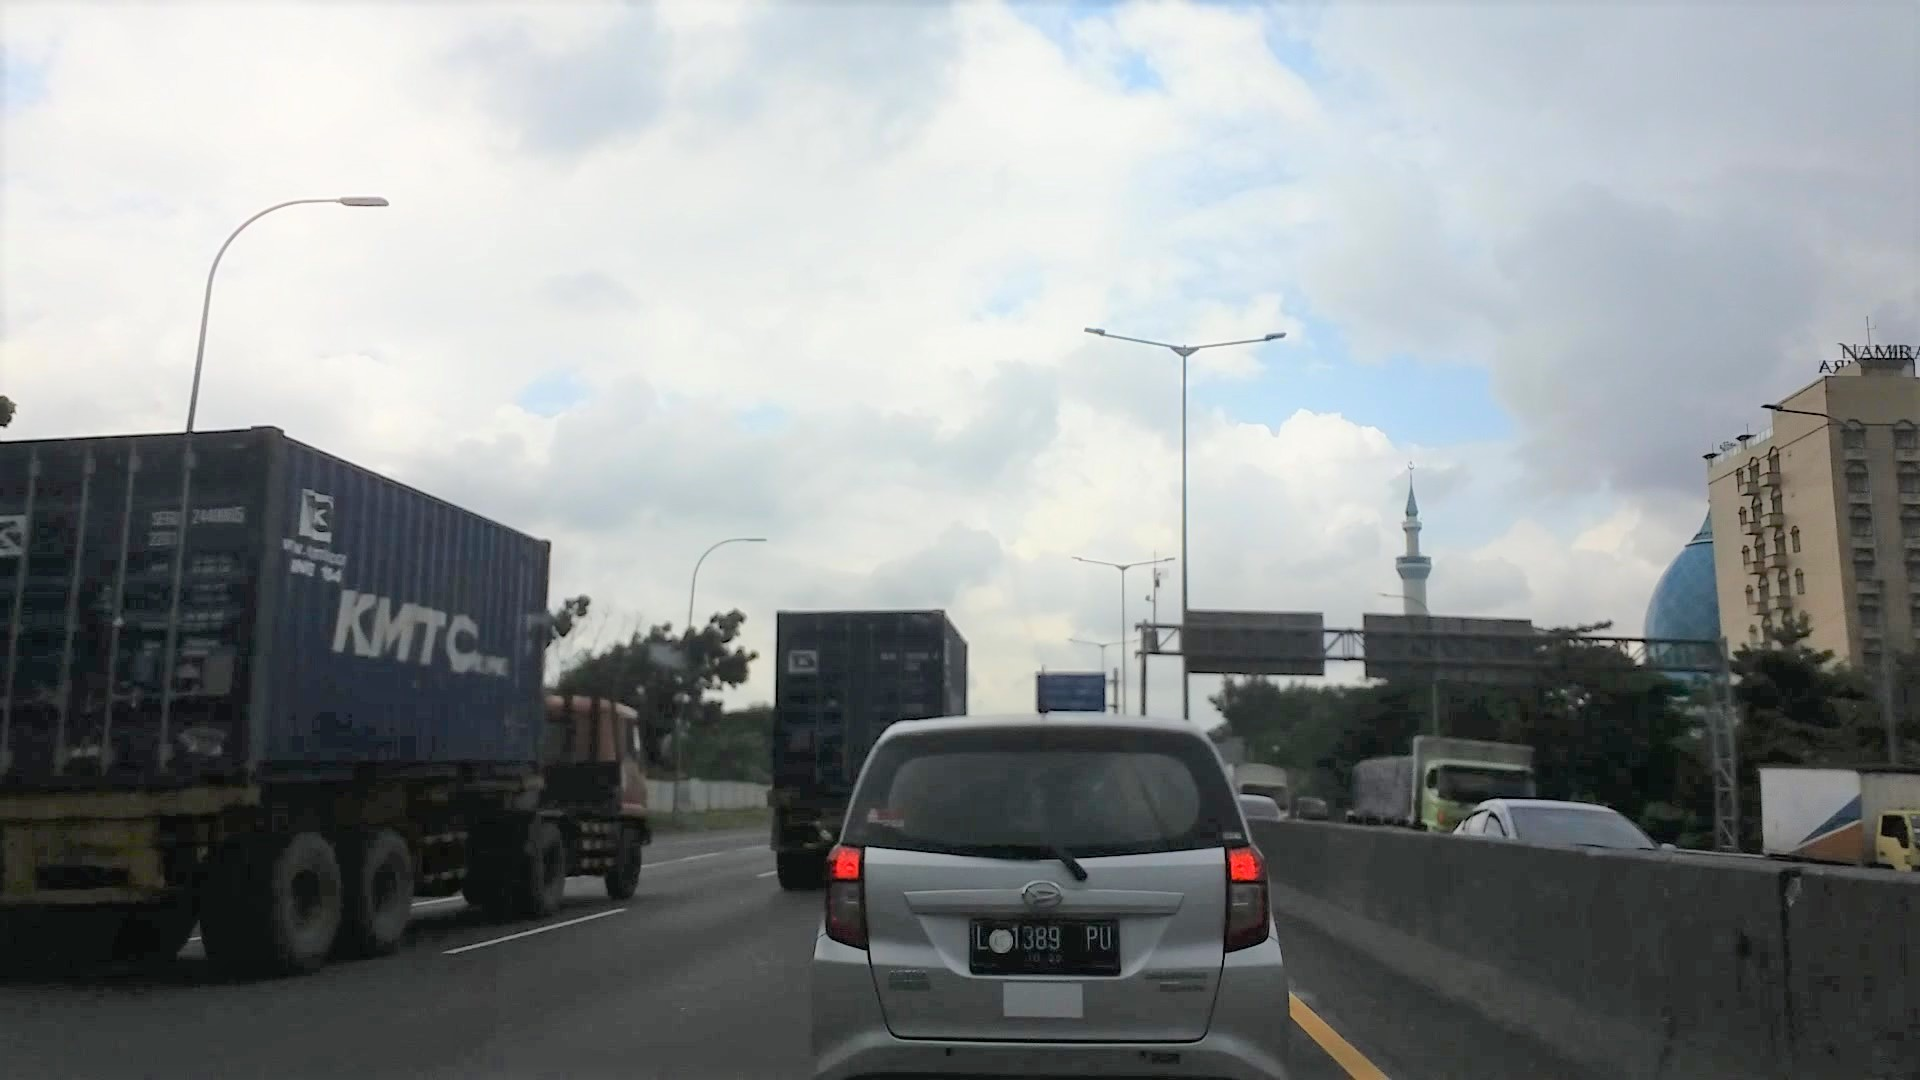plate_positive: (969, 916, 1121, 977)
